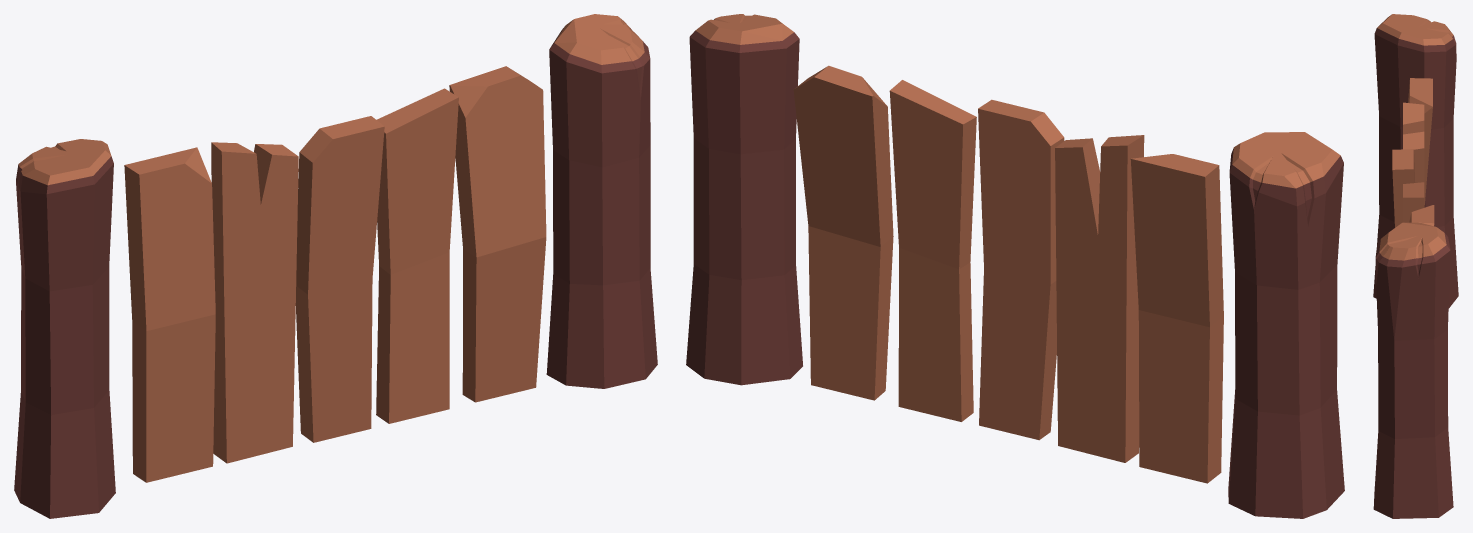
The model's file is Fence Wooden Blunt 12.fbx.
3 renders of one model, left to right at view 1: azimuth 30°, elevation 25°; view 2: azimuth 150°, elevation 25°; view 3: azimuth 270°, elevation 25°, orthographic. The views are drawn at different scales.
Visible parts, largest first — view 1: Wooden Pole Blunt 12; view 2: Wooden Pole Blunt 12; view 3: Wooden Pole Blunt 12.
Part boxes in pixels (left/top/right/bottom): Wooden Pole Blunt 12: left=14, top=14, right=657, bottom=518; Wooden Pole Blunt 12: left=686, top=14, right=1344, bottom=518; Wooden Pole Blunt 12: left=1373, top=14, right=1458, bottom=518.
Bounding box in the file's own units: 199 × 105 × 29.8.
